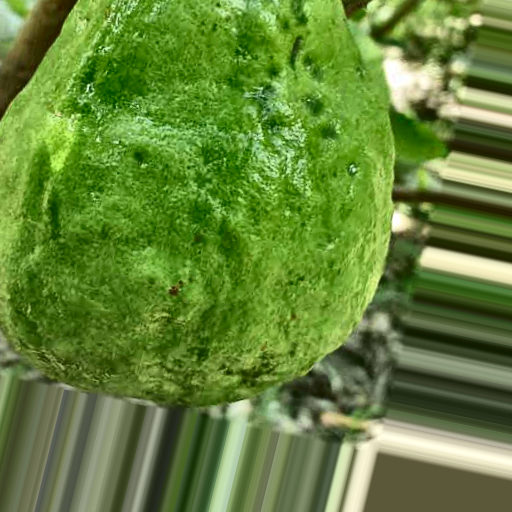guava: (101, 18, 443, 447)
